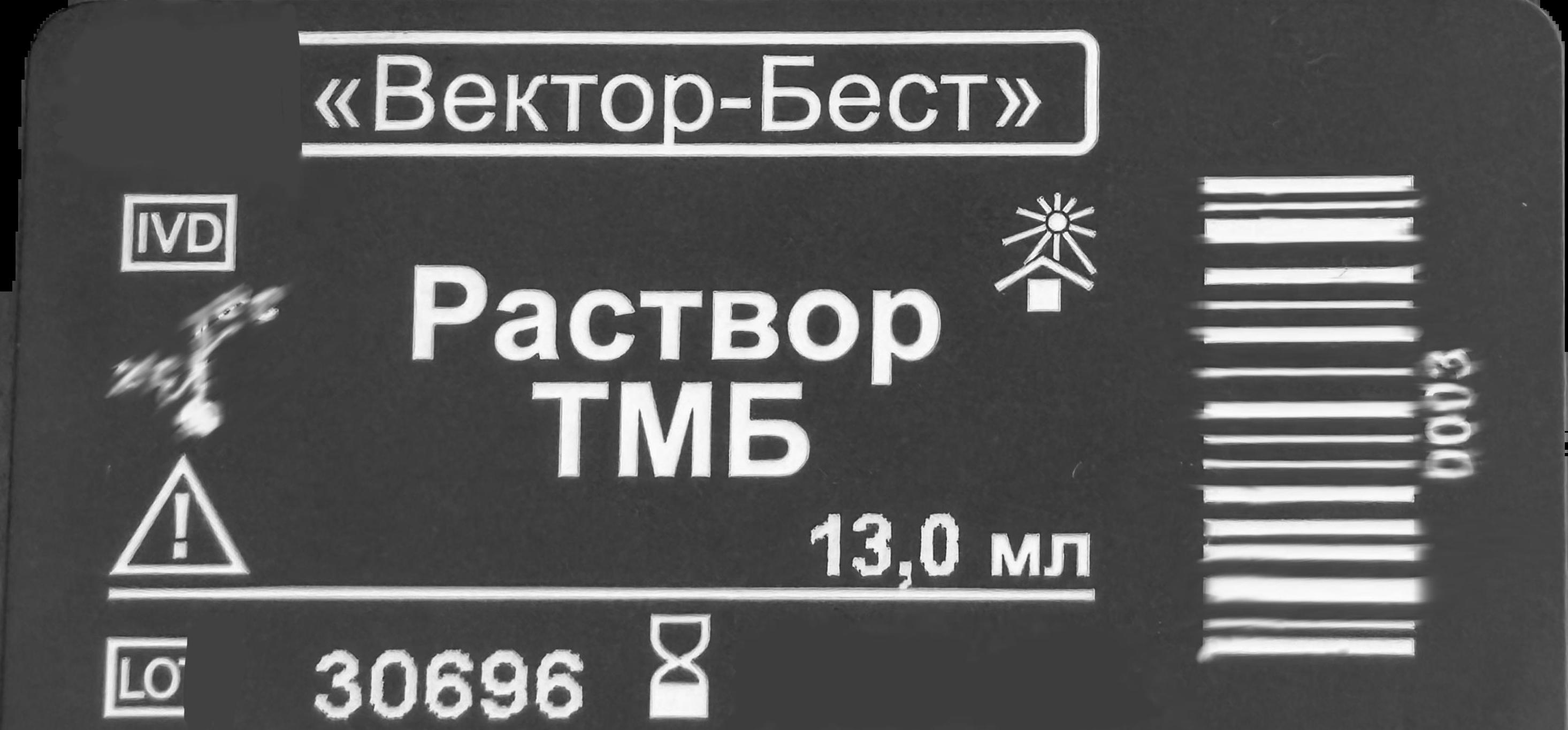something: (1191, 164, 1429, 674), (105, 282, 286, 438), (107, 451, 254, 581), (990, 185, 1103, 316), (119, 188, 239, 279), (644, 614, 714, 725), (100, 635, 190, 721)
text: (408, 261, 947, 481), (307, 45, 1048, 149), (807, 512, 1094, 592), (315, 644, 590, 724), (1421, 337, 1484, 487)
